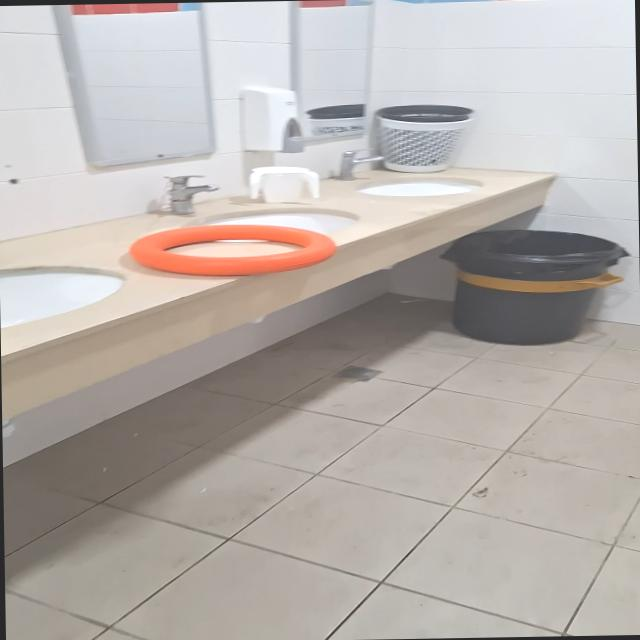note: (126, 220, 338, 278)
